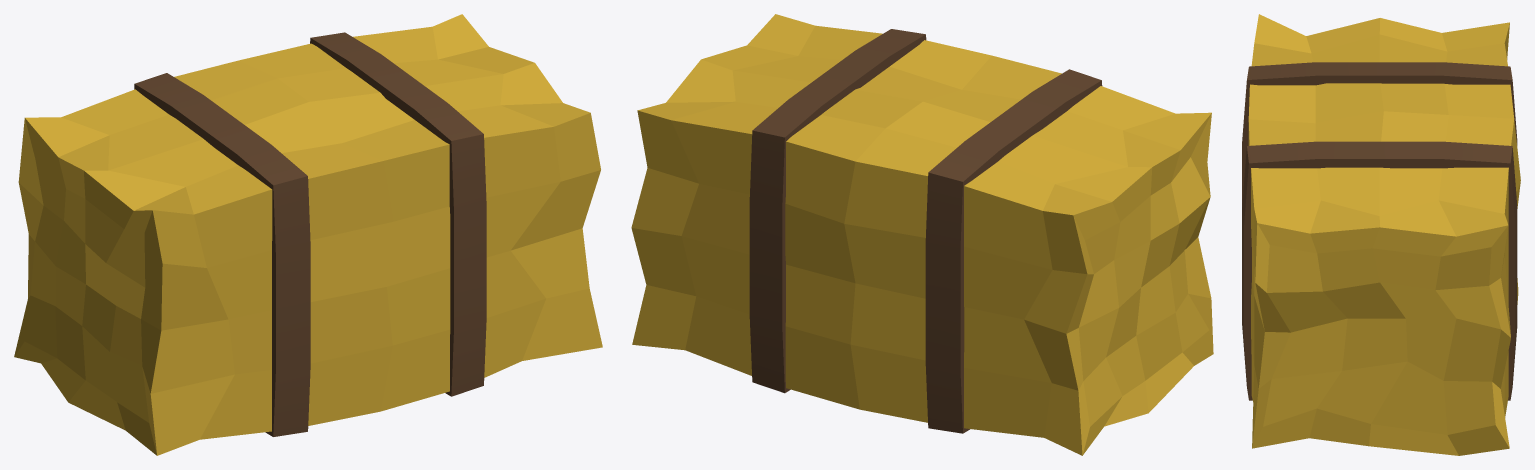
File: Chaff_A.fbx
The picture shows the model from 3 angles, left to right: view 1: azimuth 30°, elevation 25°; view 2: azimuth 150°, elevation 25°; view 3: azimuth 270°, elevation 25°; orthographic projection. The views are drawn at different scales.
Visible parts, largest first — view 1: Chaff_A; view 2: Chaff_A; view 3: Chaff_A.
Part boxes in pixels (x1,y1,x2,y2): Chaff_A: (14, 14, 602, 455); Chaff_A: (631, 14, 1213, 455); Chaff_A: (1242, 14, 1520, 455).
Bounding box in the file's own units: 74.37 × 41.19 × 41.71.
